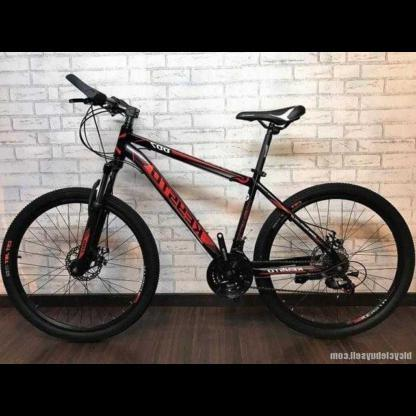Bicycle: (0, 61, 414, 362)
